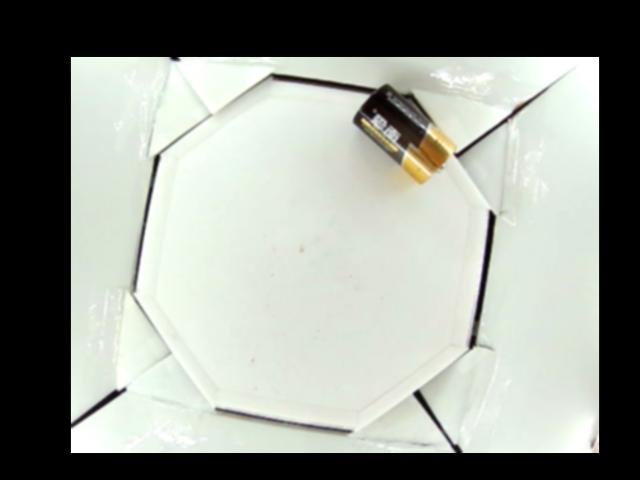Battery: (349, 84, 456, 184)
